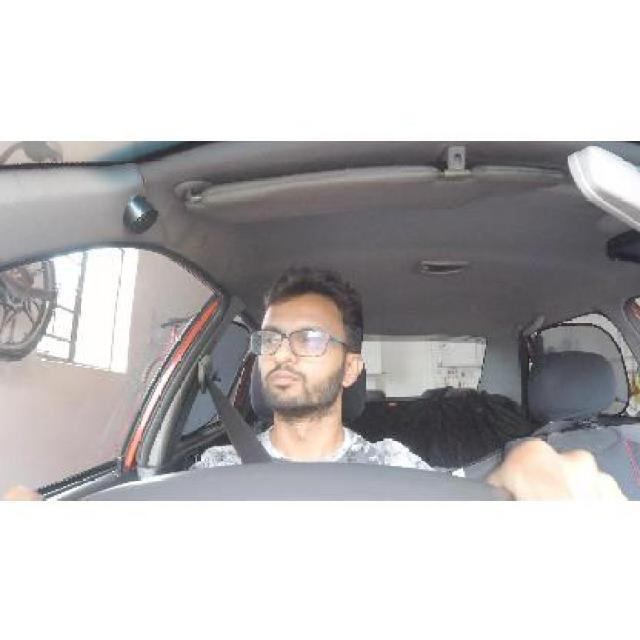person: (248, 258, 370, 424)
